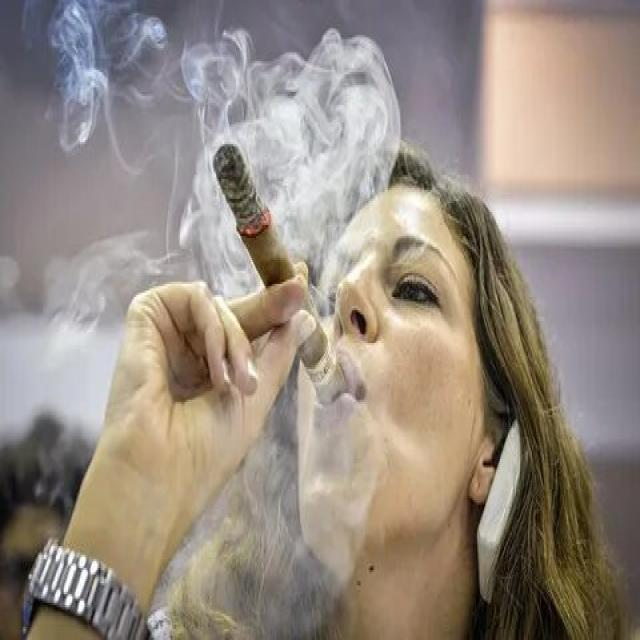cigarette: (210, 131, 350, 411)
